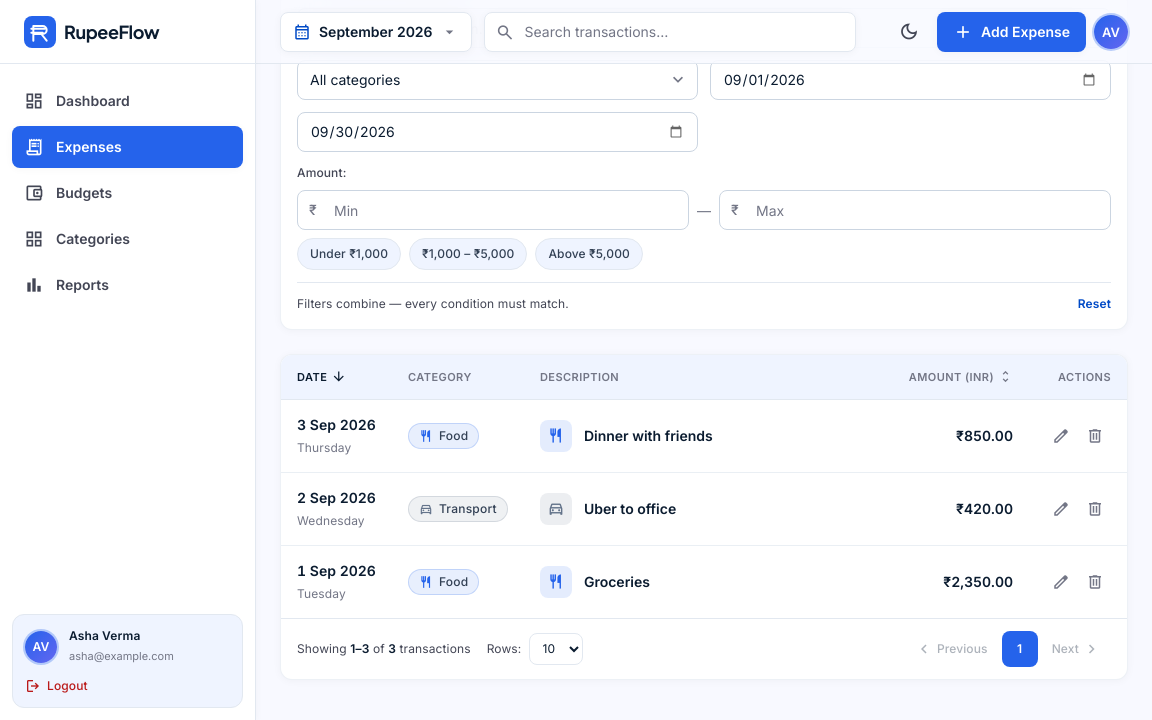
Scenario: Expenses › restores the row and reports the error when delete fails
(page scrolled)
Click the button named "Delete Dinner with friends": (1095, 436) [1079,420,1111,452]
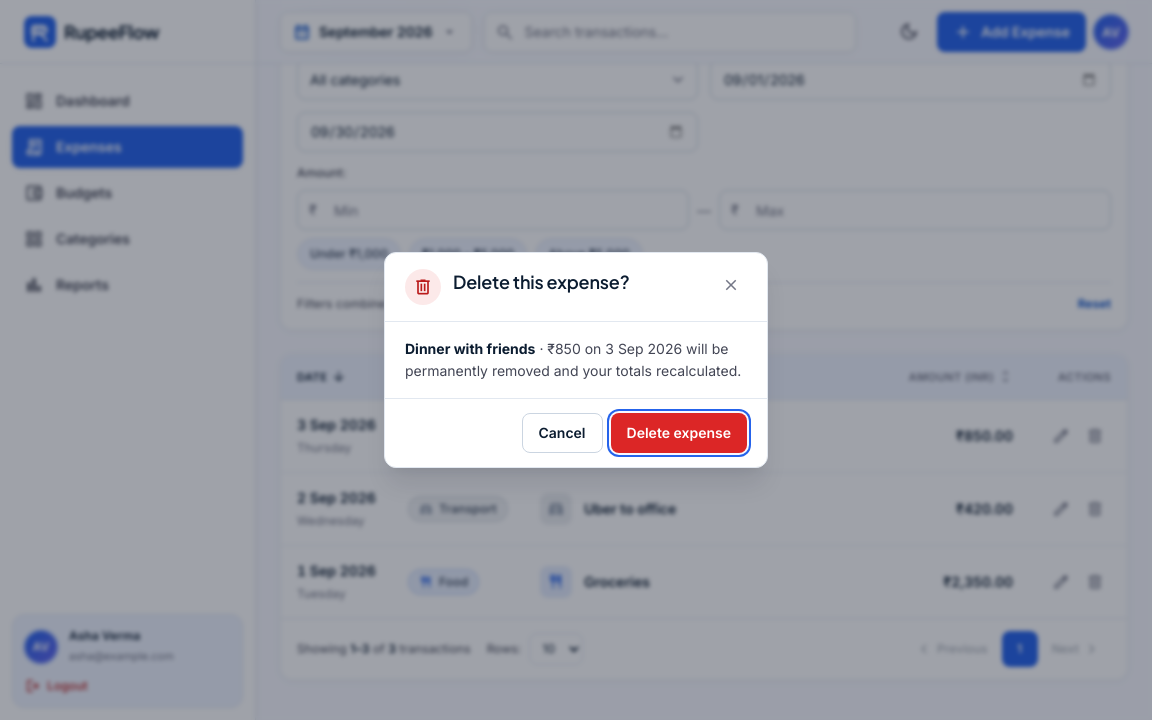
Click the button "Delete expense": (679, 433) [610,413,747,453]
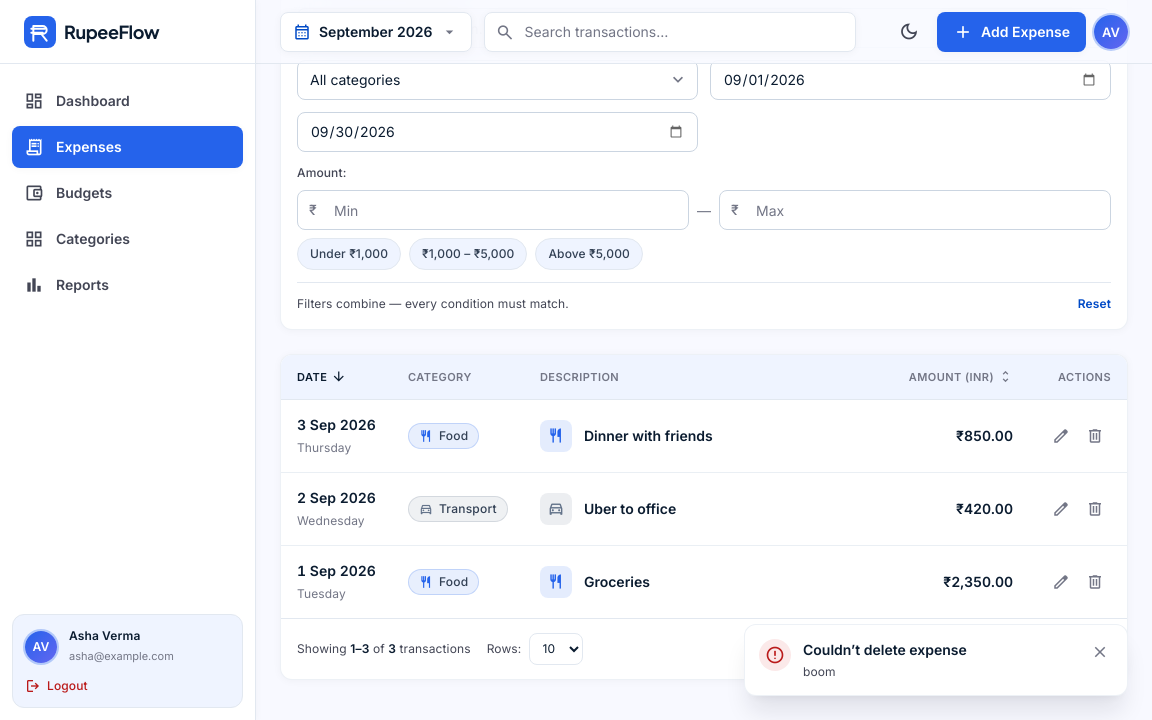
expect the text "Dinner with friends" is shown: met, box [584,424,713,446]
expect the text "Couldn’t delete expense" is shown: met, box [803,641,967,658]
